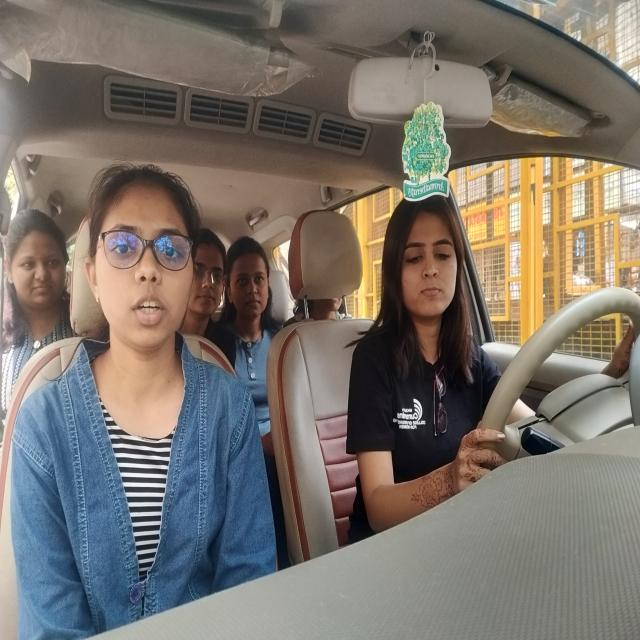person: (88, 162, 202, 359), (379, 191, 471, 326), (4, 208, 71, 315), (229, 235, 276, 328), (195, 229, 227, 317)
